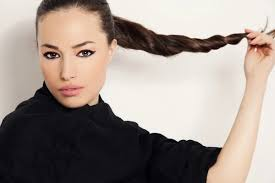person: (35, 1, 117, 109)
